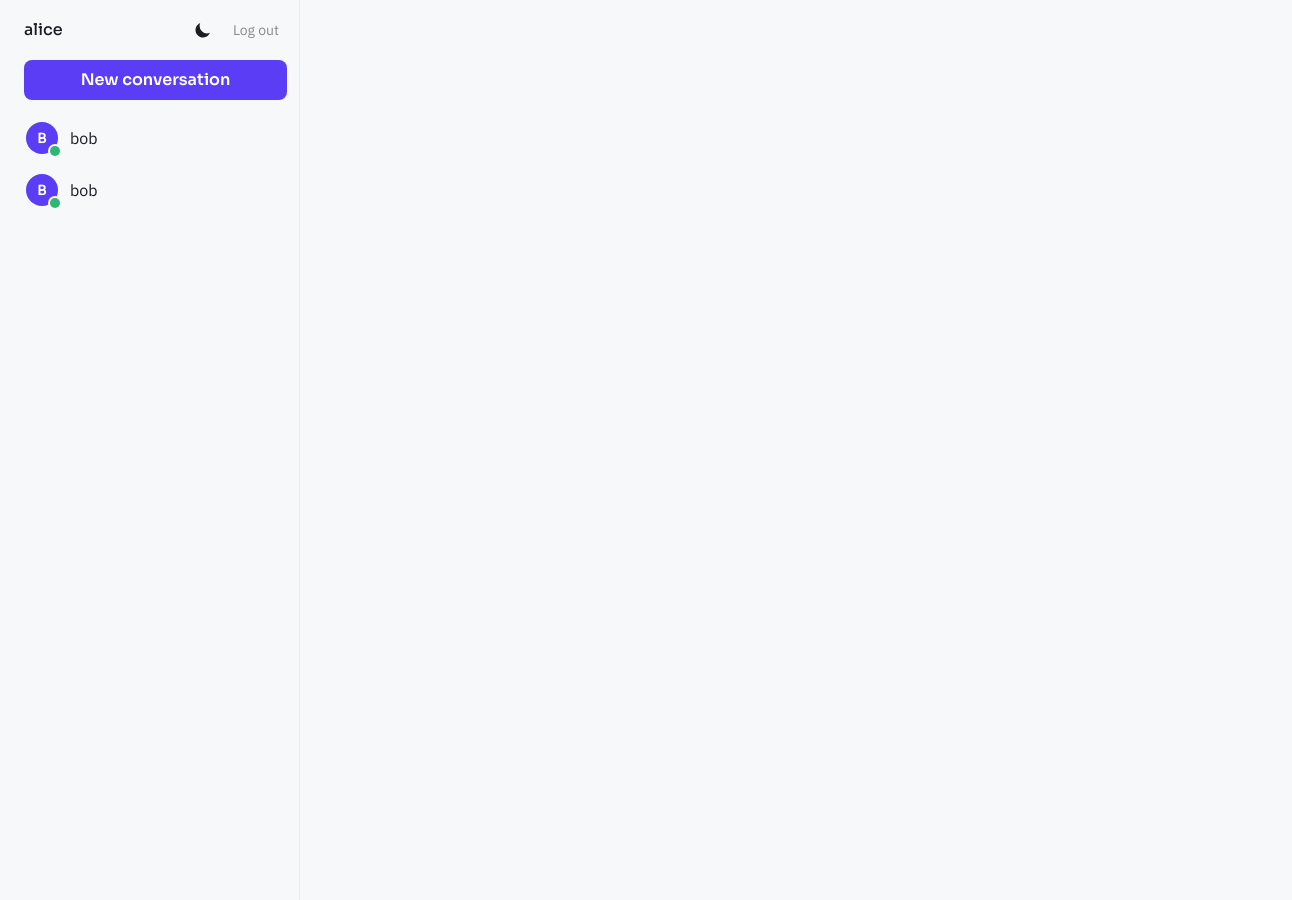
it: ChatPage presence seeding › shows a member who was already online before any presence event arrives
The width and height of the screenshot is (1292, 900).
Click the 1st button "B bob": (42, 138) [12,112,299,164]
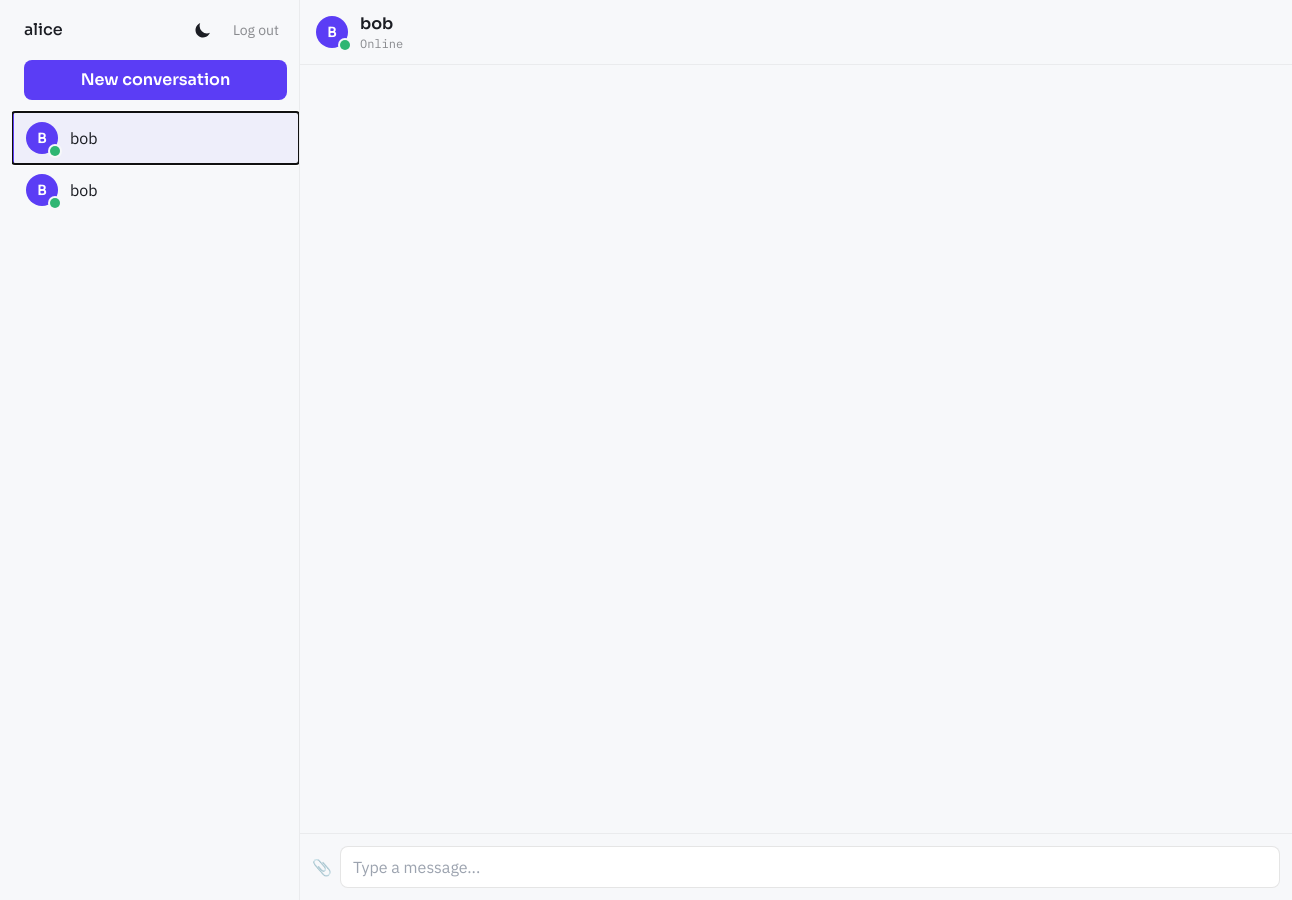
Result: the text "Online" is shown at [360,36,403,52]
